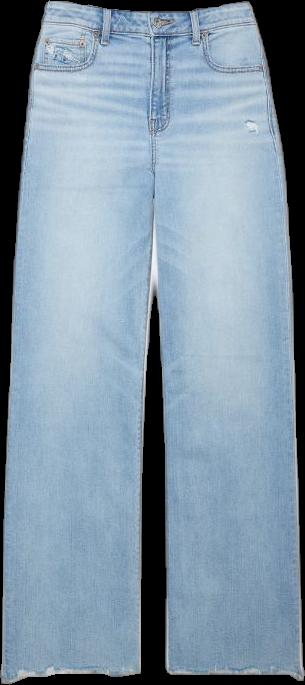Hemline: (0, 665, 143, 684), (164, 665, 304, 679)
Pantleg: (1, 2, 154, 682), (153, 2, 304, 679)
Waistline: (41, 15, 258, 41), (43, 0, 248, 21)
